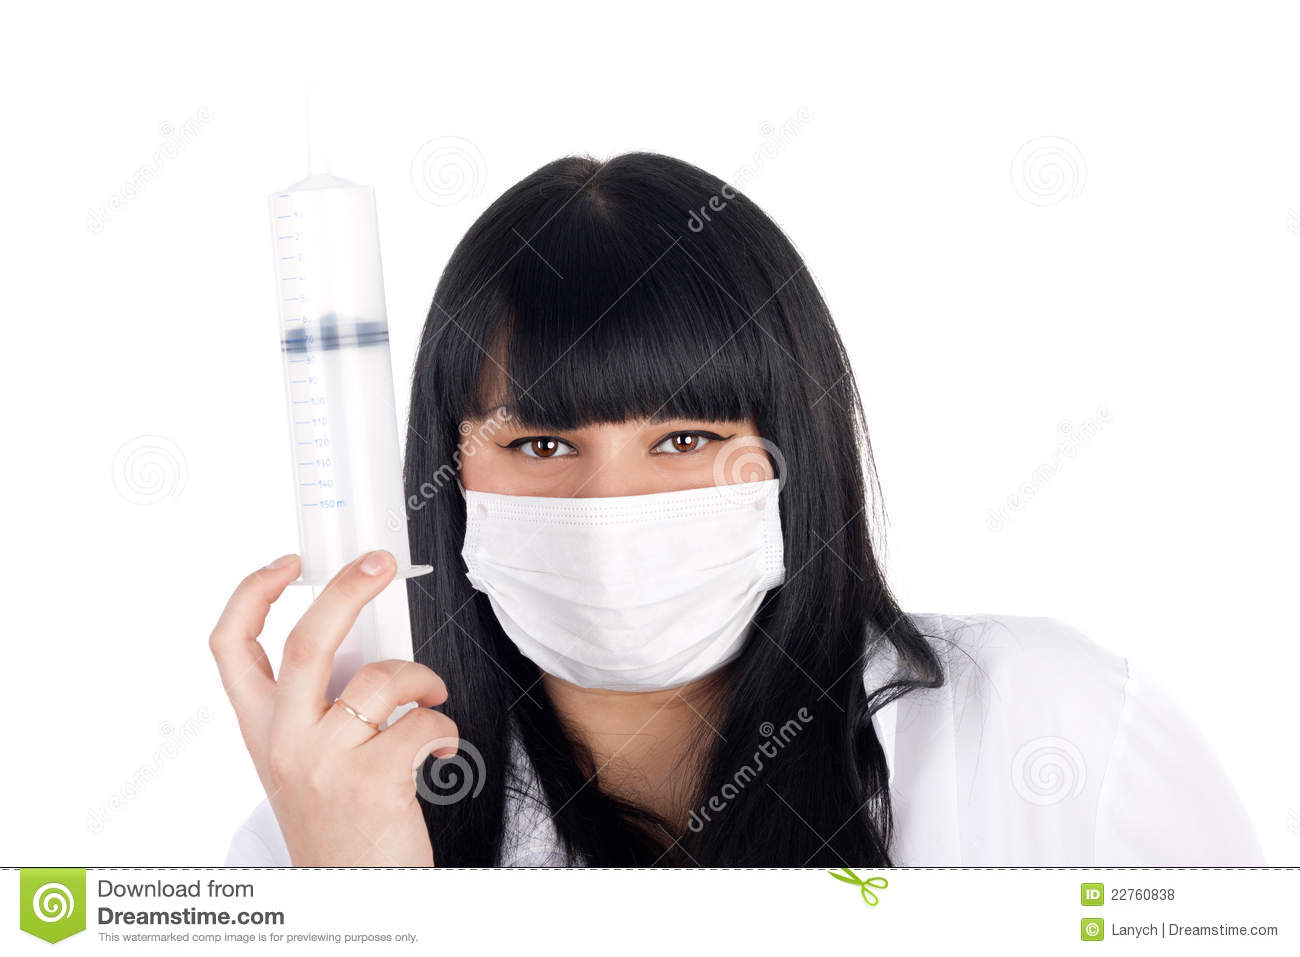mask: (461, 486, 788, 689)
